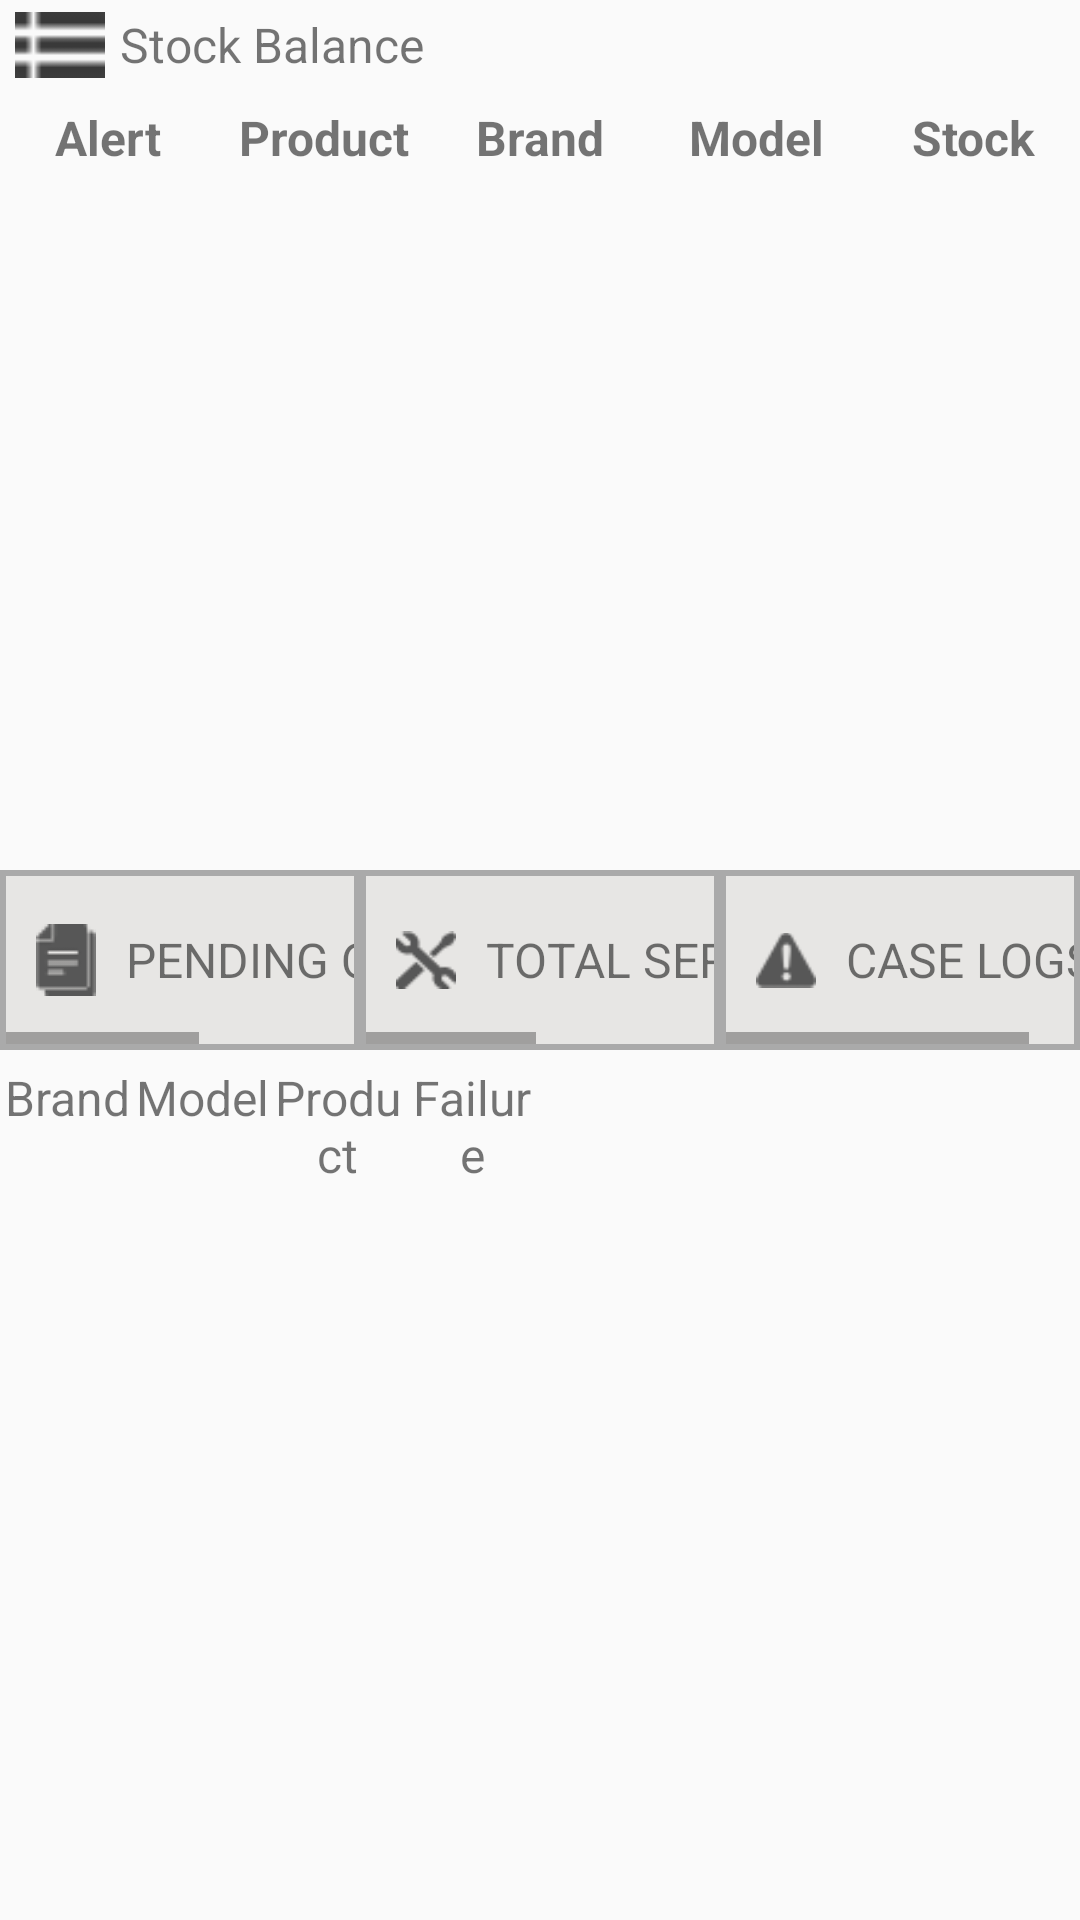

Screen size 1080px×1920px. Icon name, then its center in pixels as [x,y]:
servreq: [426,960]
